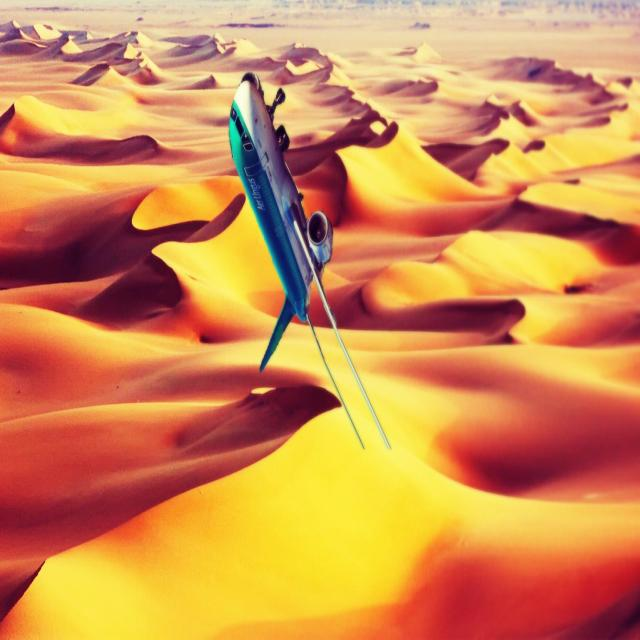airplane: (228, 70, 392, 452)
